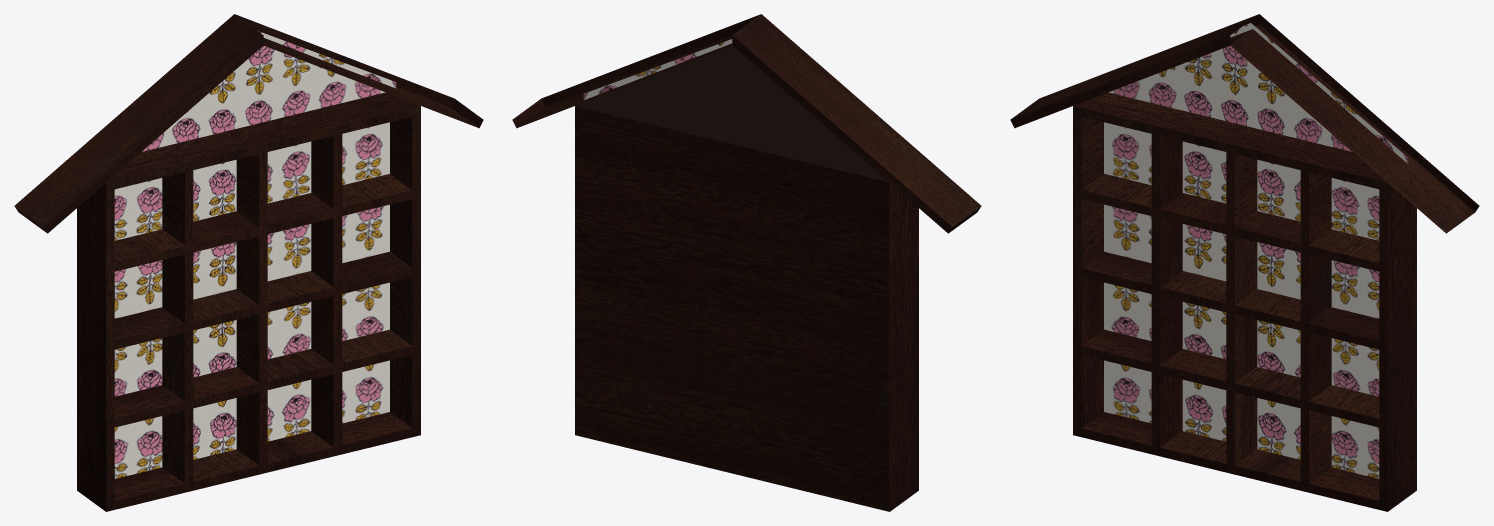
The model's file is shelf_wallpaper_simulation.gltf.
3 views of the same model, side by side, from view 1: azimuth 30°, elevation 25°; view 2: azimuth 150°, elevation 25°; view 3: azimuth 330°, elevation 25° (orthographic).
Parts seen in each view (by area): view 1: group_0.016, Image Plane Vihkiruusu_135_maripedia.png, group_1, group_2, group_3; view 2: group_0.016, group_4, group_2, group_3, Image Plane Vihkiruusu_135_maripedia.png; view 3: group_0.016, Image Plane Vihkiruusu_135_maripedia.png, group_1, group_3, group_2.
Part boxes in pixels (bbox=[...]): group_0.016: bbox=[77, 92, 420, 511]; Image Plane Vihkiruusu_135_maripedia.png: bbox=[114, 31, 396, 478]; group_1: bbox=[106, 106, 420, 511]; group_2: bbox=[14, 14, 263, 233]; group_3: bbox=[235, 14, 483, 128]; group_0.016: bbox=[575, 106, 918, 511]; group_4: bbox=[575, 45, 889, 182]; group_2: bbox=[732, 14, 981, 233]; group_3: bbox=[512, 14, 760, 128]; Image Plane Vihkiruusu_135_maripedia.png: bbox=[583, 39, 732, 99]; group_0.016: bbox=[1073, 92, 1416, 511]; Image Plane Vihkiruusu_135_maripedia.png: bbox=[1104, 23, 1408, 478]; group_1: bbox=[1073, 106, 1387, 511]; group_3: bbox=[1230, 14, 1479, 233]; group_2: bbox=[1010, 14, 1259, 128].
Size of the model in its own units: 0.4198 by 0.3993 by 0.048.
2 materials, 2 textured.
